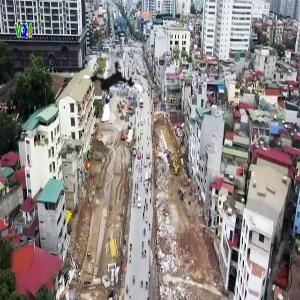drone: (78, 57, 146, 125)
